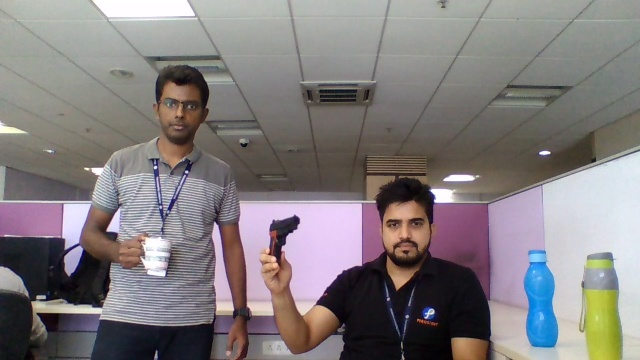gun: (265, 214, 302, 248)
